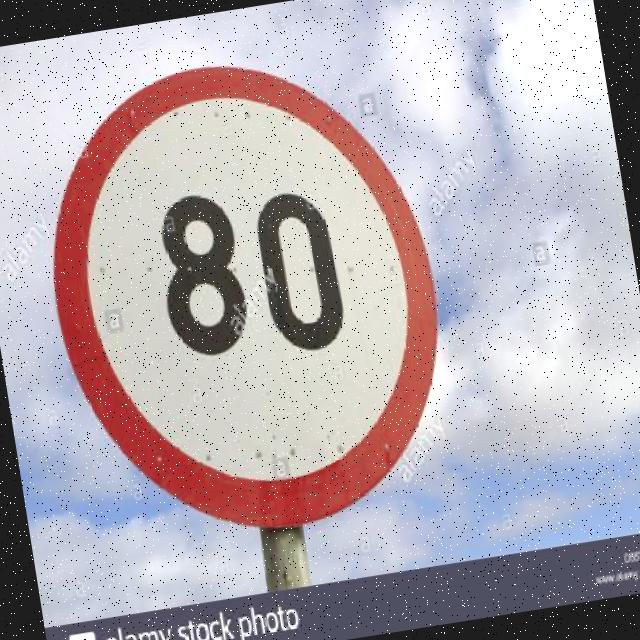Ograniczenie predkosci do 80: (74, 98, 417, 487)
